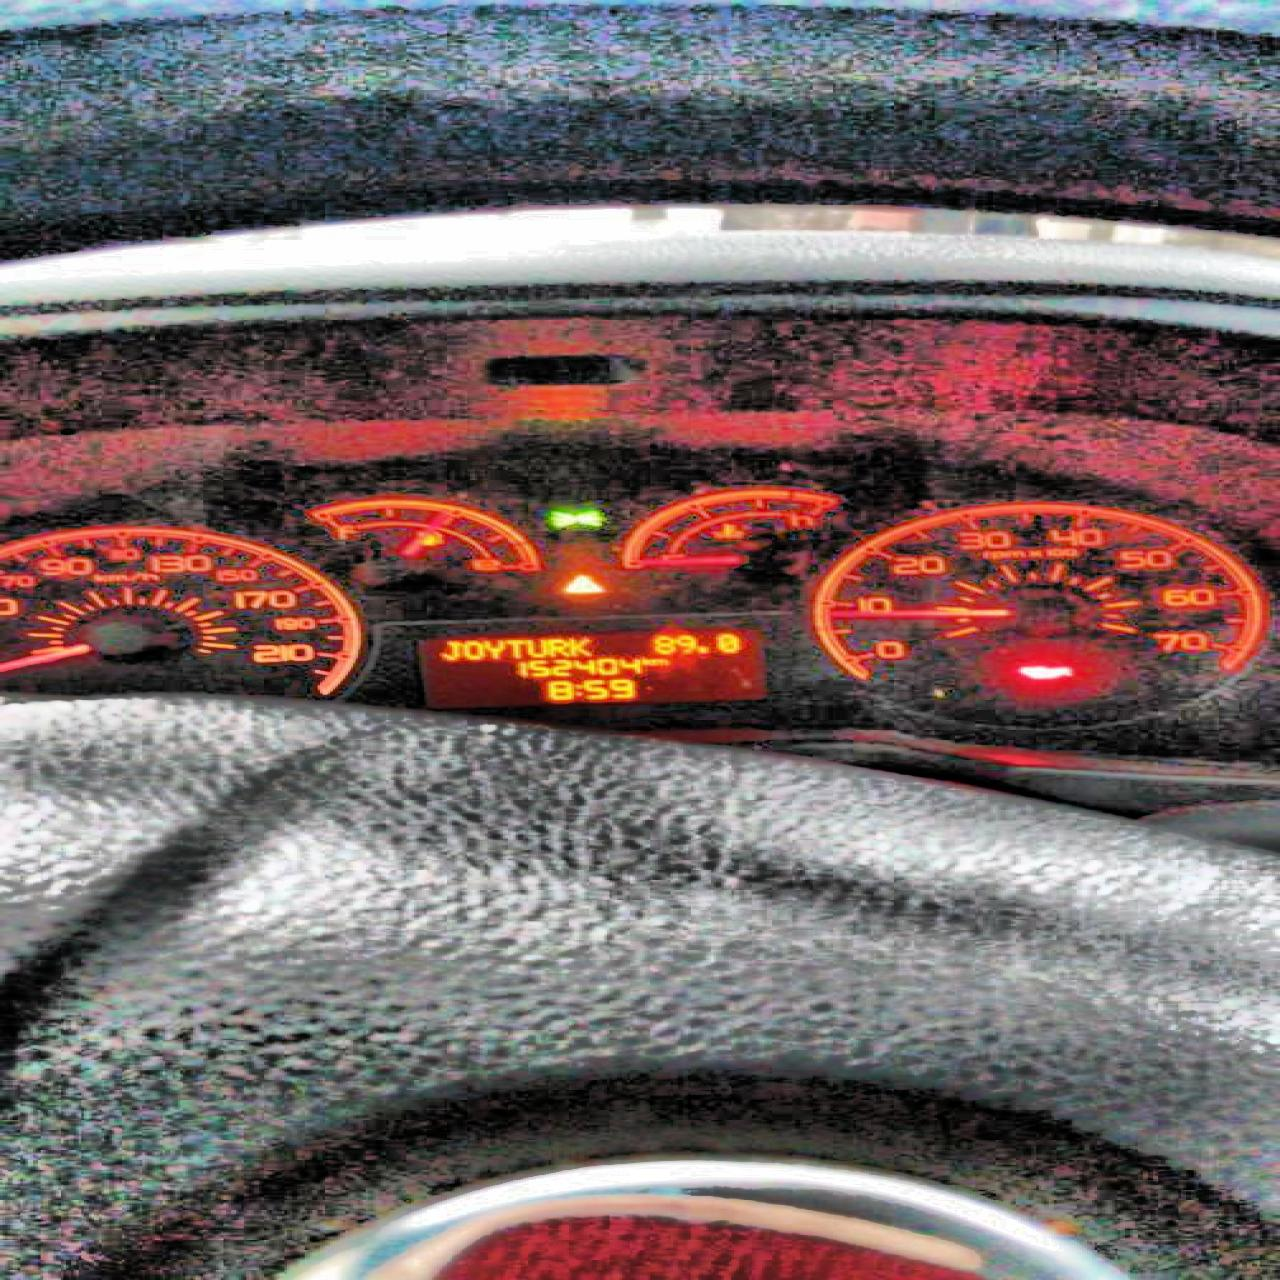-: (693, 644, 706, 655)
0: (714, 632, 742, 654), (594, 656, 617, 675)
1: (513, 660, 526, 678)
2: (551, 658, 572, 676)
4: (617, 656, 640, 674), (572, 658, 594, 675)
5: (581, 678, 607, 700), (525, 659, 549, 678)
8: (540, 679, 571, 700), (651, 635, 673, 653)
9: (607, 678, 632, 699), (675, 633, 696, 654)
X: (459, 638, 483, 660), (568, 636, 594, 656), (437, 638, 457, 661), (482, 638, 503, 659), (523, 636, 544, 658), (546, 636, 566, 658), (505, 636, 520, 659), (574, 681, 581, 697), (653, 656, 666, 665), (640, 655, 651, 665)
odometer: (411, 626, 775, 708)
